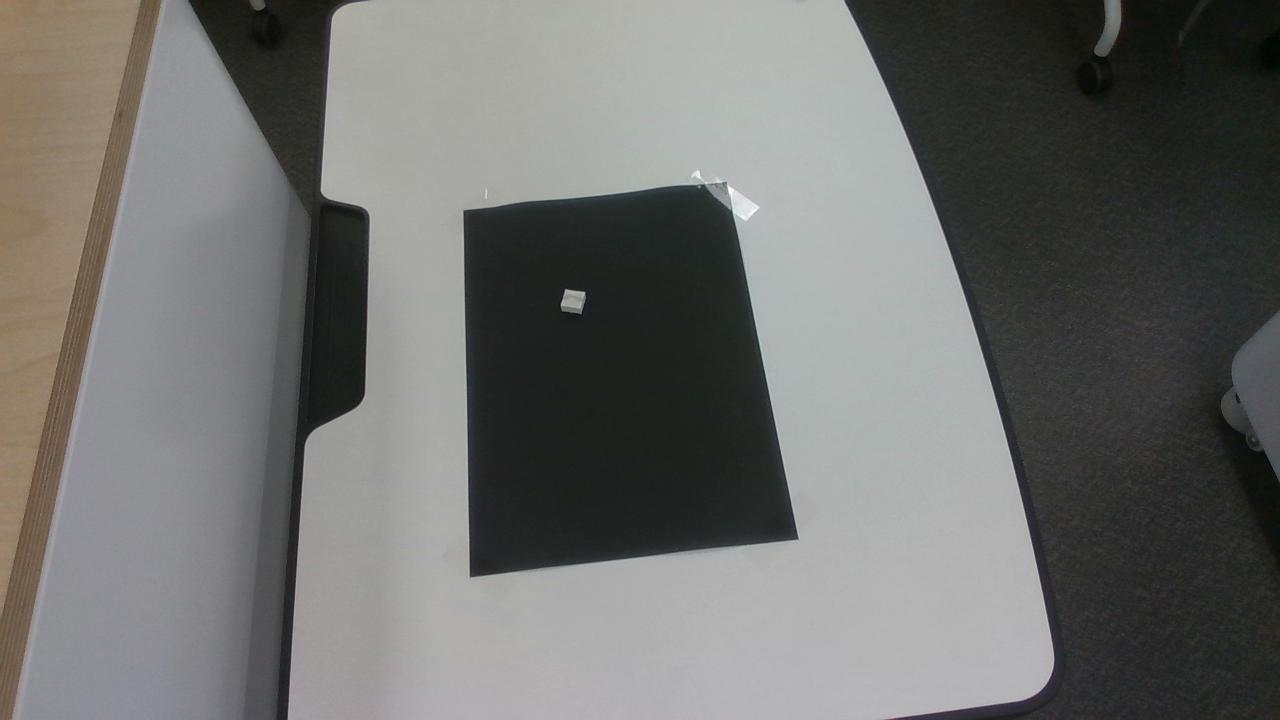cube: (561, 289, 585, 314)
